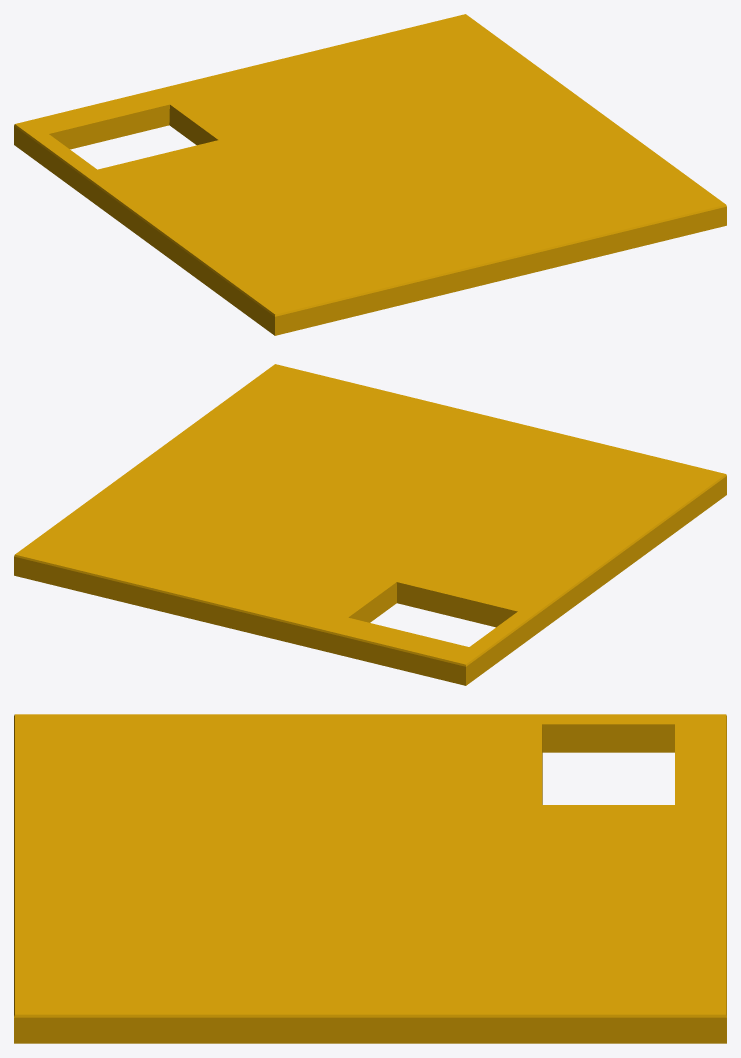
Rendered from Move_Game_SliderHole_07.fbx.
3 renders of one model, top to bottom at view 1: azimuth 30°, elevation 25°; view 2: azimuth 150°, elevation 25°; view 3: azimuth 270°, elevation 25°, orthographic. The views are drawn at different scales.
Parts seen in each view (by area): view 1: Move_Game_SliderHole_07; view 2: Move_Game_SliderHole_07; view 3: Move_Game_SliderHole_07.
Part boxes in pixels (x1,y1,x2,y2): Move_Game_SliderHole_07: (14,14,726,335); Move_Game_SliderHole_07: (14,364,726,685); Move_Game_SliderHole_07: (14,714,726,1043).
Bounding box in the file's own units: 17.29 × 0.7676 × 17.29.
